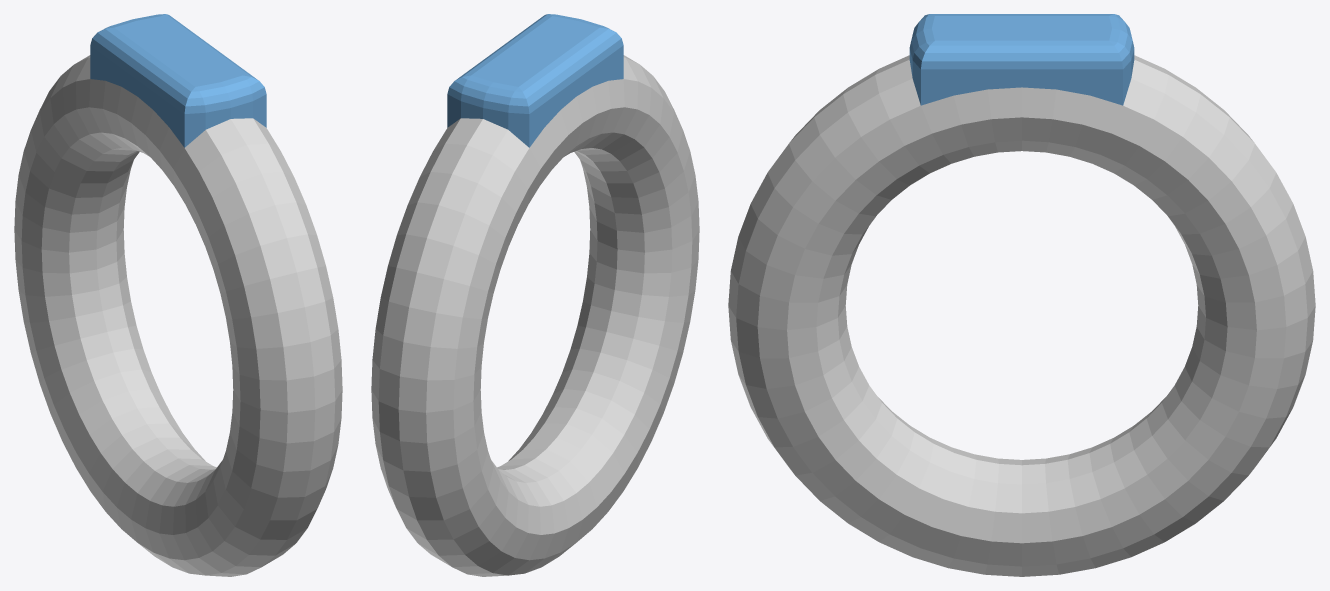
File: Ring.fbx
3 renders of one model, left to right at view 1: azimuth 30°, elevation 25°; view 2: azimuth 150°, elevation 25°; view 3: azimuth 270°, elevation 25°, orthographic. The views are drawn at different scales.
Visible parts, largest first — view 1: Torus; view 2: Torus; view 3: Torus.
Boxes of the visible parts, x1,y1,x2,y2 form: Torus: (14,14,342,576); Torus: (371,14,699,576); Torus: (728,14,1315,576).
Size of the model in its own units: 21.16 by 108 by 106.
